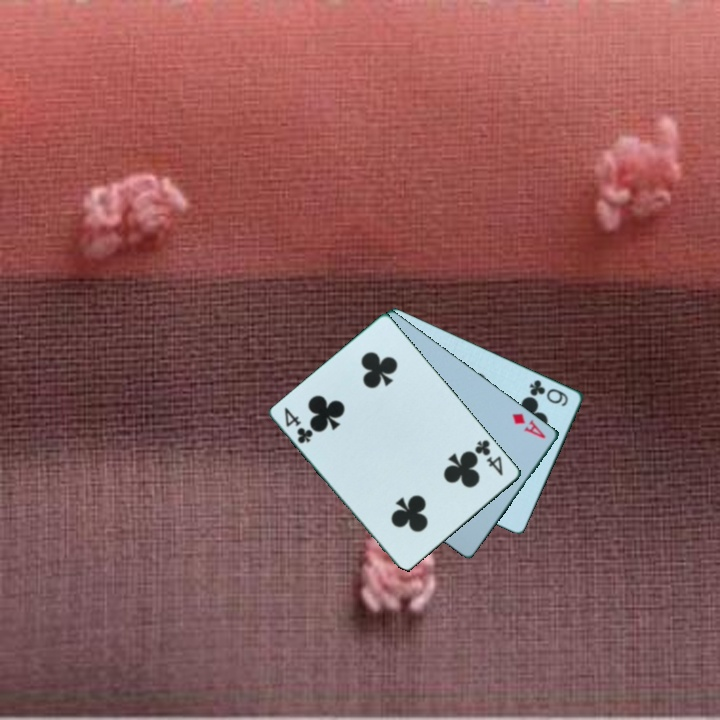4c: (281, 404, 317, 447), (472, 436, 507, 479)
6c: (526, 376, 572, 409)
Ad: (508, 409, 549, 442)
